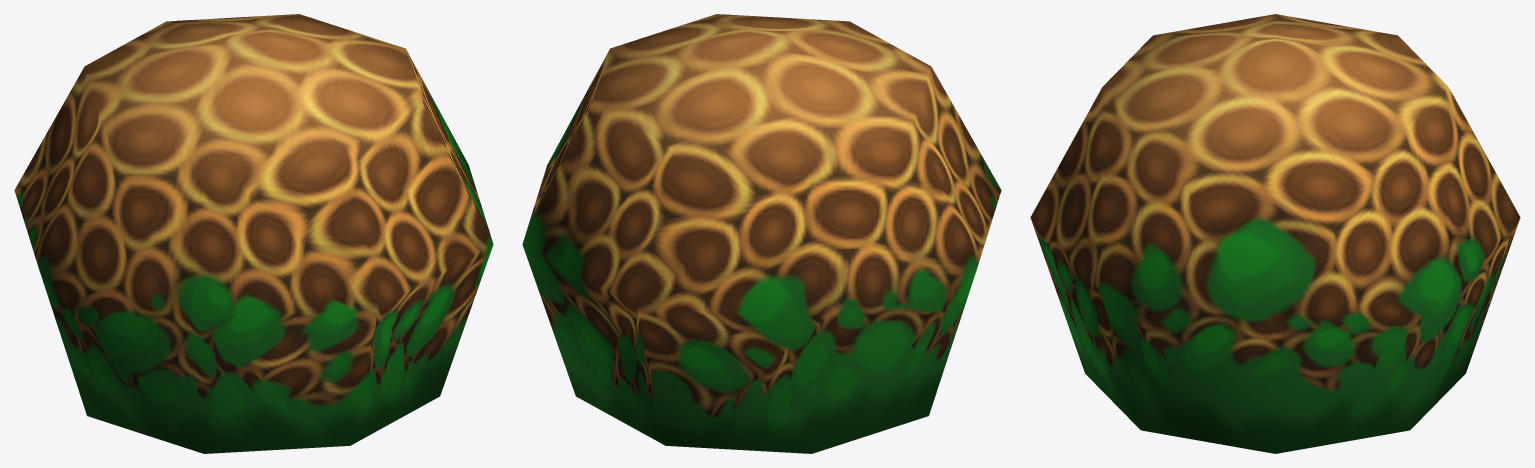
File: Coral_27b.FBX
3 views of the same model, side by side, from view 1: azimuth 30°, elevation 25°; view 2: azimuth 150°, elevation 25°; view 3: azimuth 270°, elevation 25° (orthographic).
Visible parts, largest first — view 1: Coral_27b; view 2: Coral_27b; view 3: Coral_27b.
Part boxes in pixels (bbox=[...]): Coral_27b: bbox=[14, 14, 493, 453]; Coral_27b: bbox=[522, 14, 1001, 453]; Coral_27b: bbox=[1030, 14, 1520, 453].
Bounding box in the file's own units: 41.42 × 30.87 × 41.42.
